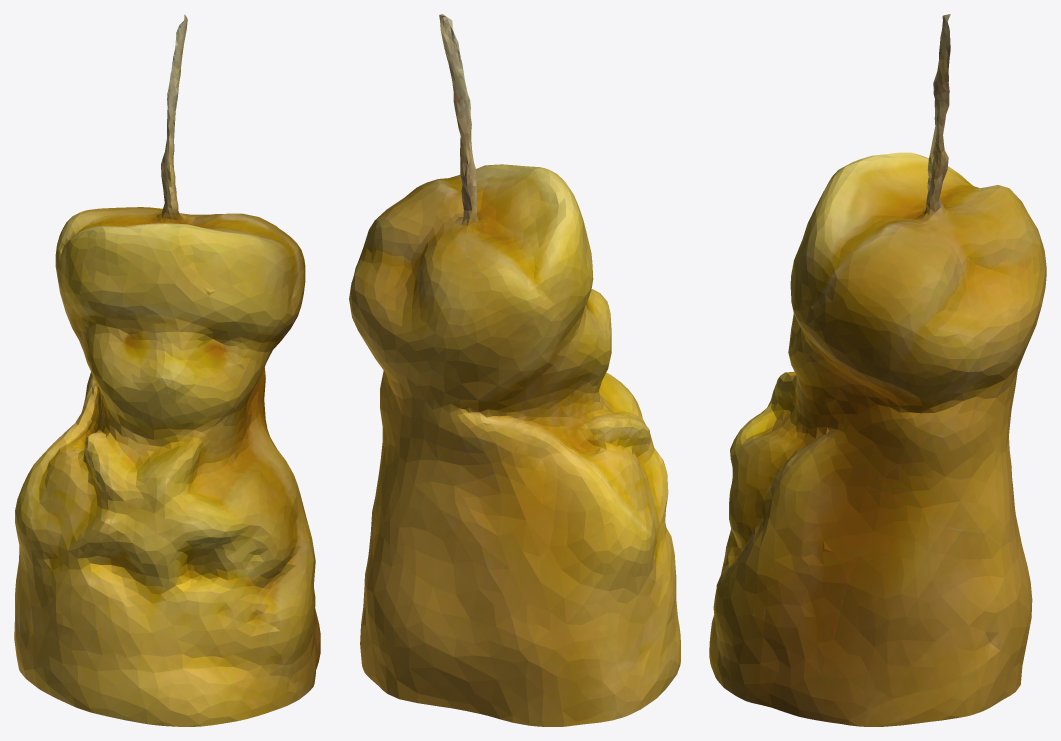
The model's file is candle.glb.
3 views of the same model, side by side, from view 1: azimuth 30°, elevation 25°; view 2: azimuth 150°, elevation 25°; view 3: azimuth 270°, elevation 25° (orthographic). The views are drawn at different scales.
Parts seen in each view (by area): view 1: 10.6.2024; view 2: 10.6.2024; view 3: 10.6.2024.
Boxes of the visible parts, box(x1,y1,x2,y2) form: 10.6.2024: box(14, 14, 320, 726); 10.6.2024: box(349, 14, 680, 726); 10.6.2024: box(709, 14, 1046, 726).
Bounding box in the file's own units: 0.2494 × 0.5515 × 0.2524.
Materials: 1 (1 with a texture image).
